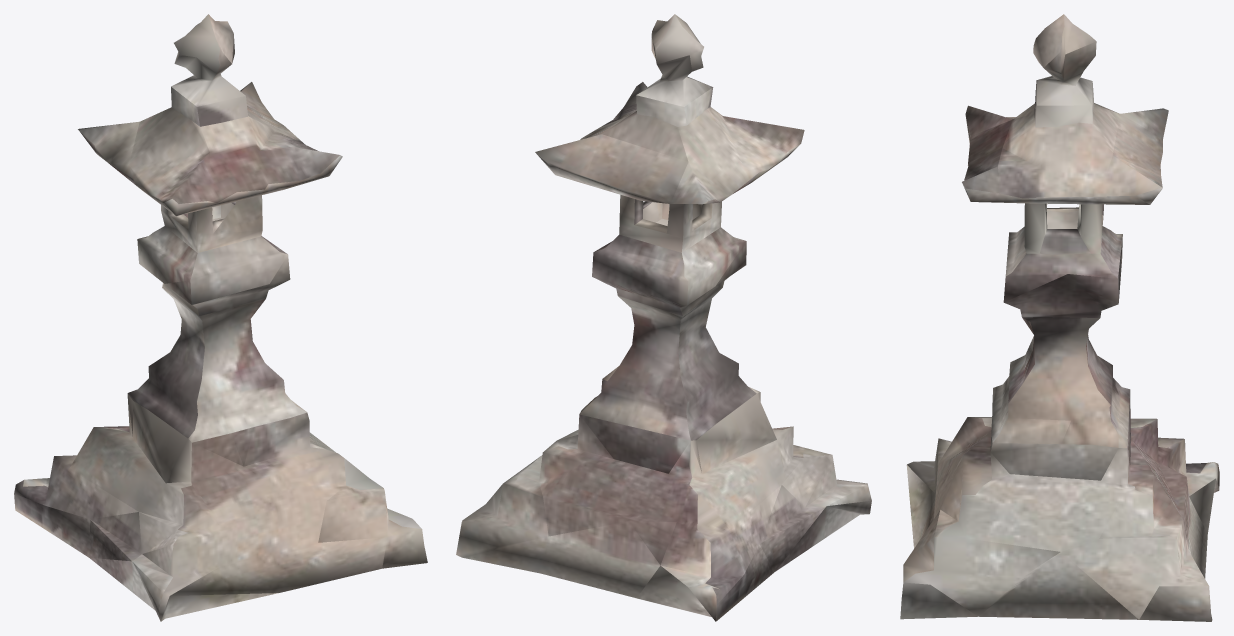
Rendered from Q_SavePoint.fbx.
3 renders of one model, left to right at view 1: azimuth 30°, elevation 25°; view 2: azimuth 150°, elevation 25°; view 3: azimuth 270°, elevation 25°, orthographic. The views are drawn at different scales.
Visible parts, largest first — view 1: Aset_other__L_ufnscjdga_LOD5; view 2: Aset_other__L_ufnscjdga_LOD5; view 3: Aset_other__L_ufnscjdga_LOD5.
Boxes of the visible parts, x1,y1,x2,y2 form: Aset_other__L_ufnscjdga_LOD5: (14, 14, 427, 621); Aset_other__L_ufnscjdga_LOD5: (456, 14, 871, 621); Aset_other__L_ufnscjdga_LOD5: (900, 14, 1219, 621).
Bounding box in the file's own units: 81.66 × 152 × 81.99.
Materials: 1 (1 with a texture image).
